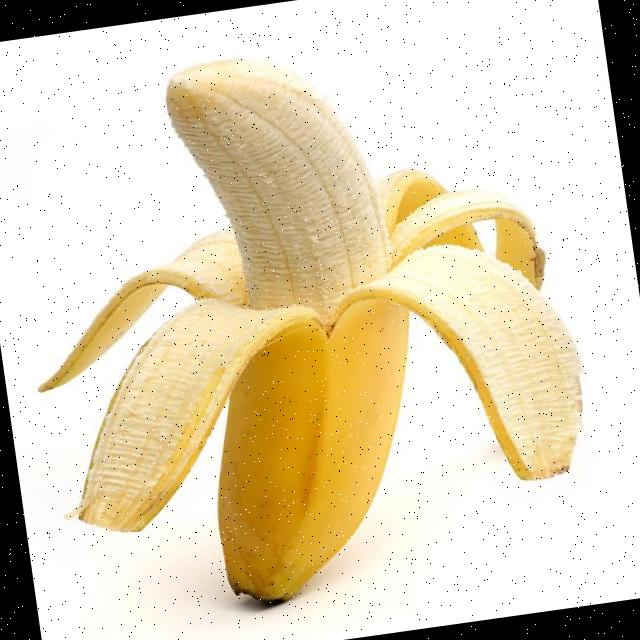banana-peel: (0, 14, 608, 632)
